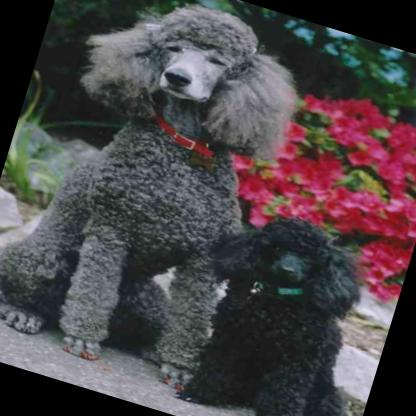miniature_poodle: (0, 0, 316, 401), (162, 194, 391, 416)
